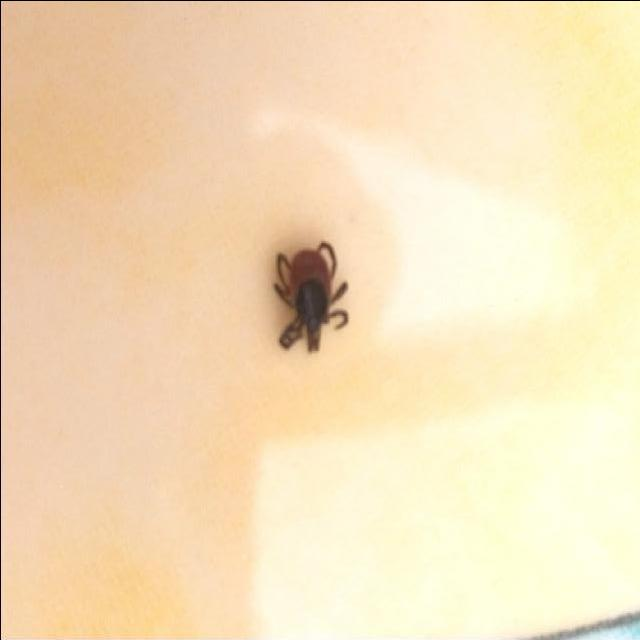Ixodes Ricinus-F: (269, 240, 348, 351)
